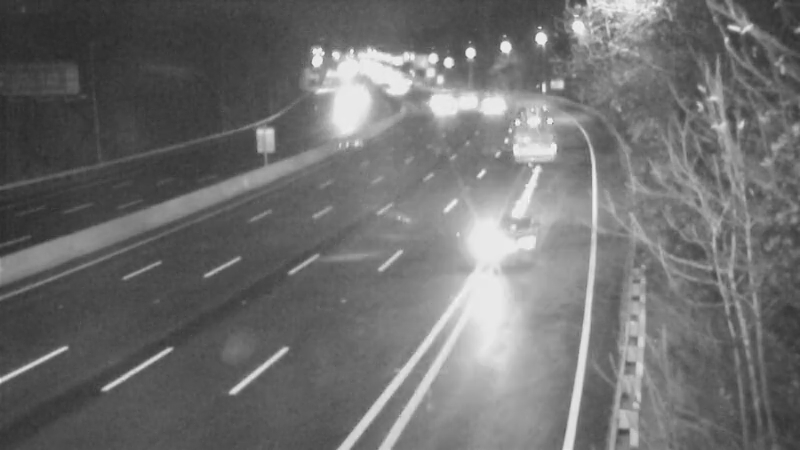vehicle: (463, 204, 543, 284), (364, 64, 414, 114), (445, 69, 495, 119), (414, 73, 464, 123), (422, 86, 472, 136), (466, 87, 516, 137), (502, 95, 552, 145), (315, 87, 365, 137)
